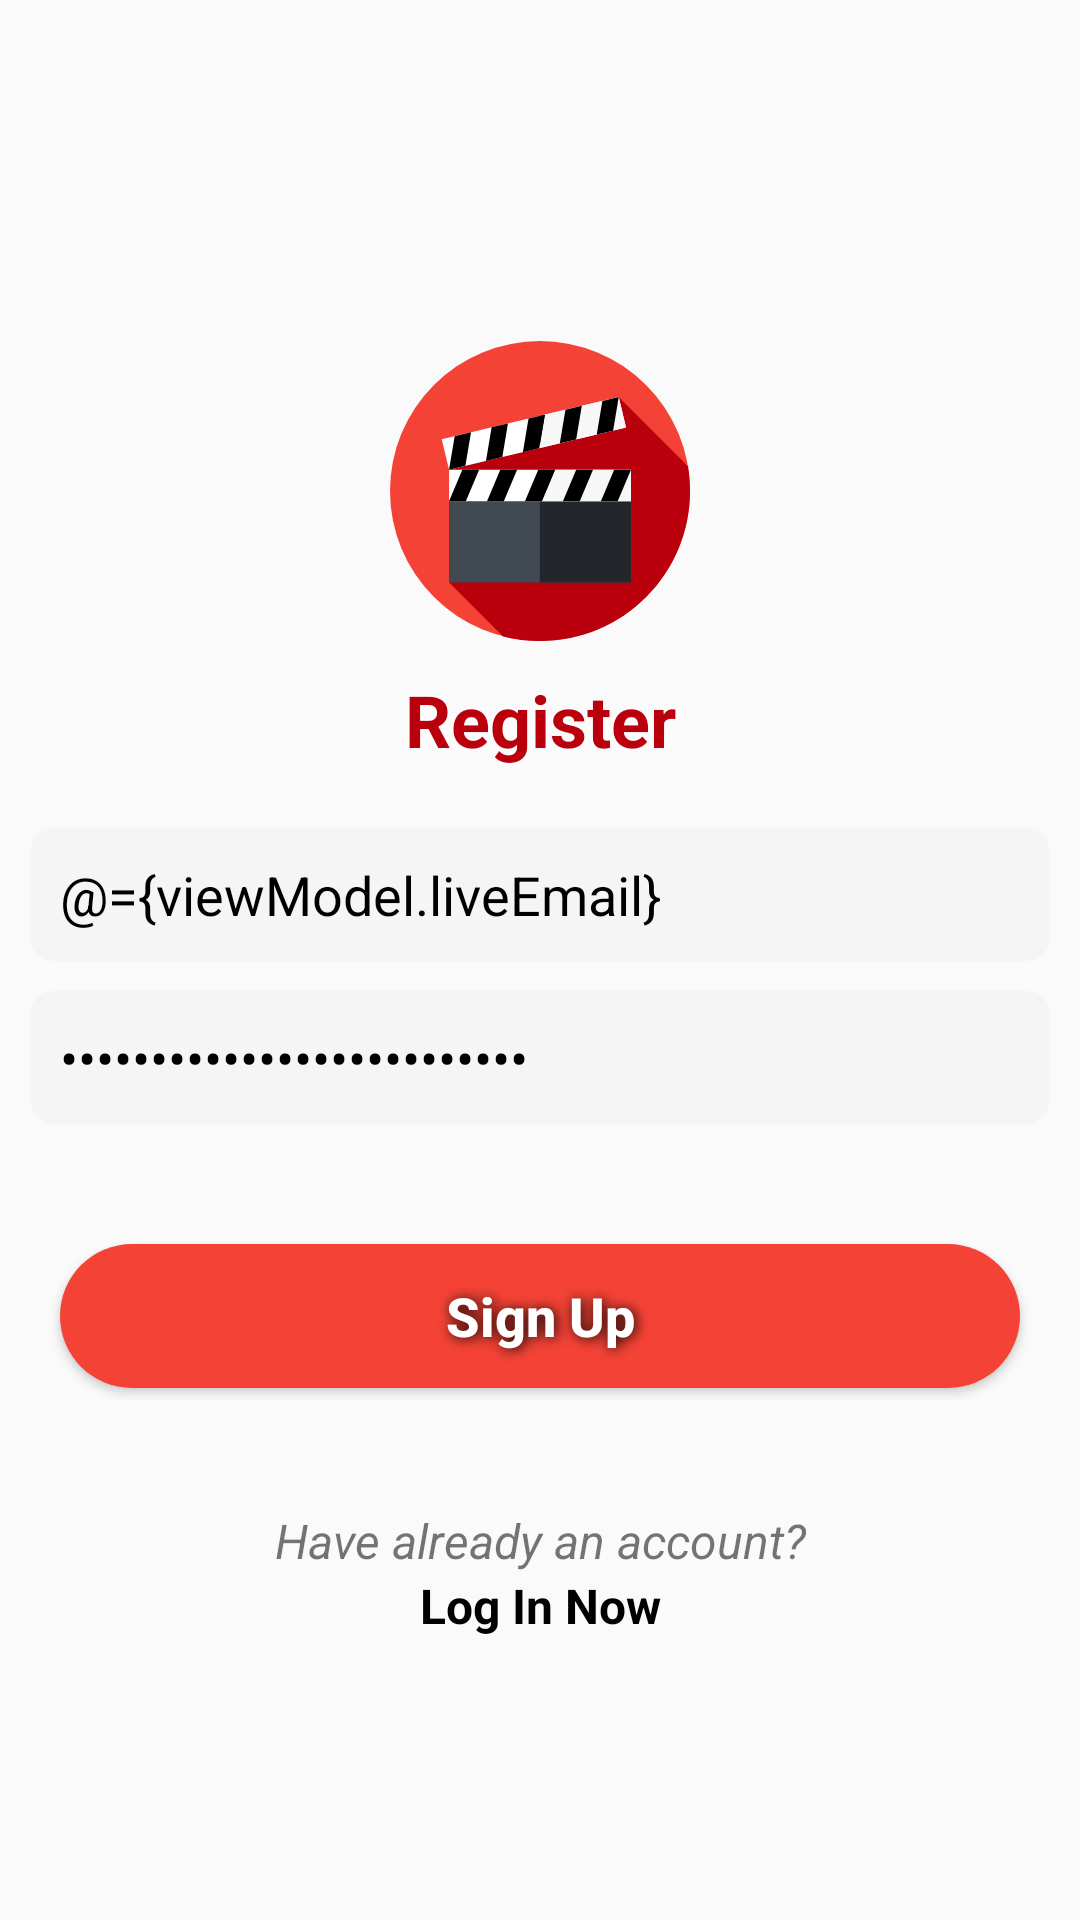

Screen size 1080×1920. Icon name, then its center in pixels as (x=x, y=y):
clapperboard: (x=540, y=491)
